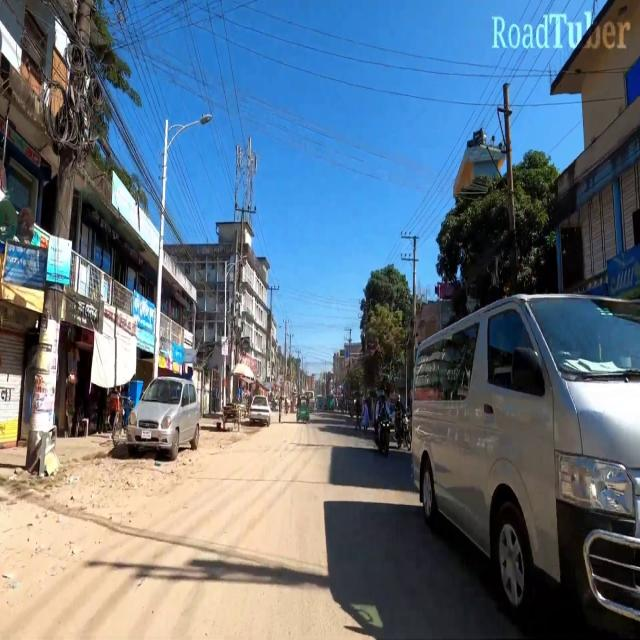silver: (130, 375, 202, 461)
white: (412, 287, 640, 640)
